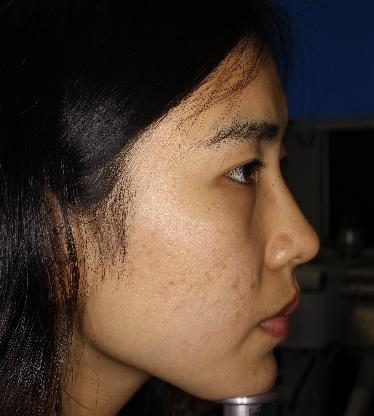acne scar: (228, 276, 245, 293), (244, 276, 260, 294), (163, 279, 181, 290)
